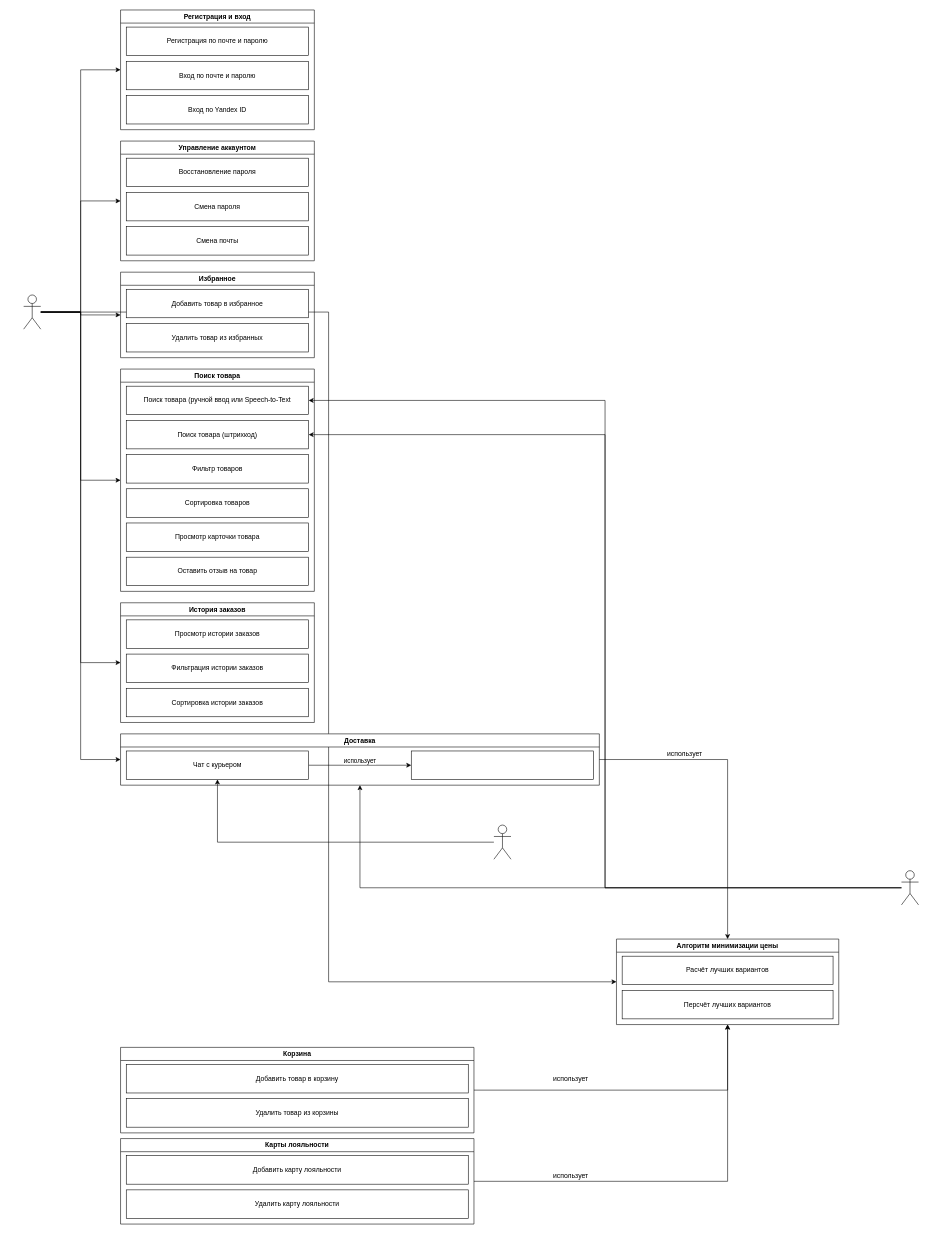
Some shapes in this 943 by 1234 pixel diagram are drawn without their labels. Here are the shapes that lost their labels. From the top down, the centre of each, then its label:
At point 32,311: "Пользователь".
At point 502,764: "Оформление заказа".
At point 502,842: "Курьер".
At point 910,887: "API партнёров".
